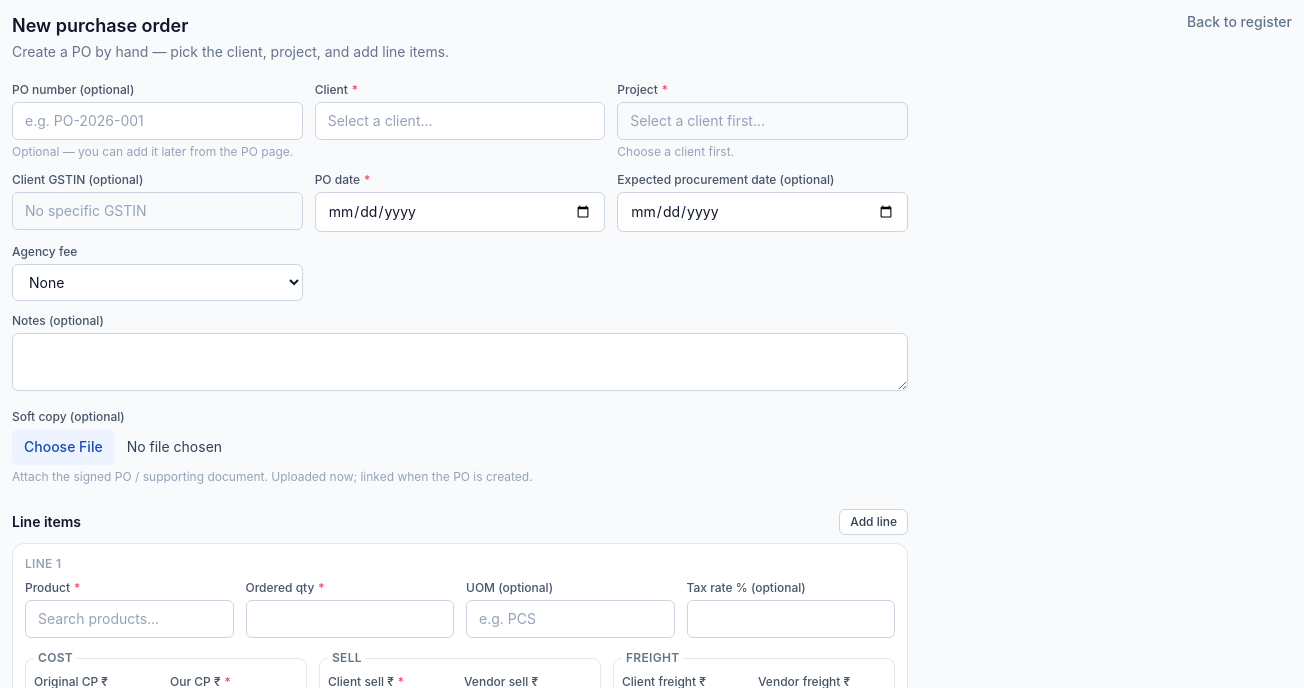
Test: PO create form — load this project's products (template pre-fill) › appends a pre-filled line per tagged product with qty LEFT BLANK (non-admin)
Expected: the field labelled "PO number" is shown, [12,102,303,140]
Focus the dropdown labelled "Client *". click: point(460, 121)
box: [315,102,605,140]
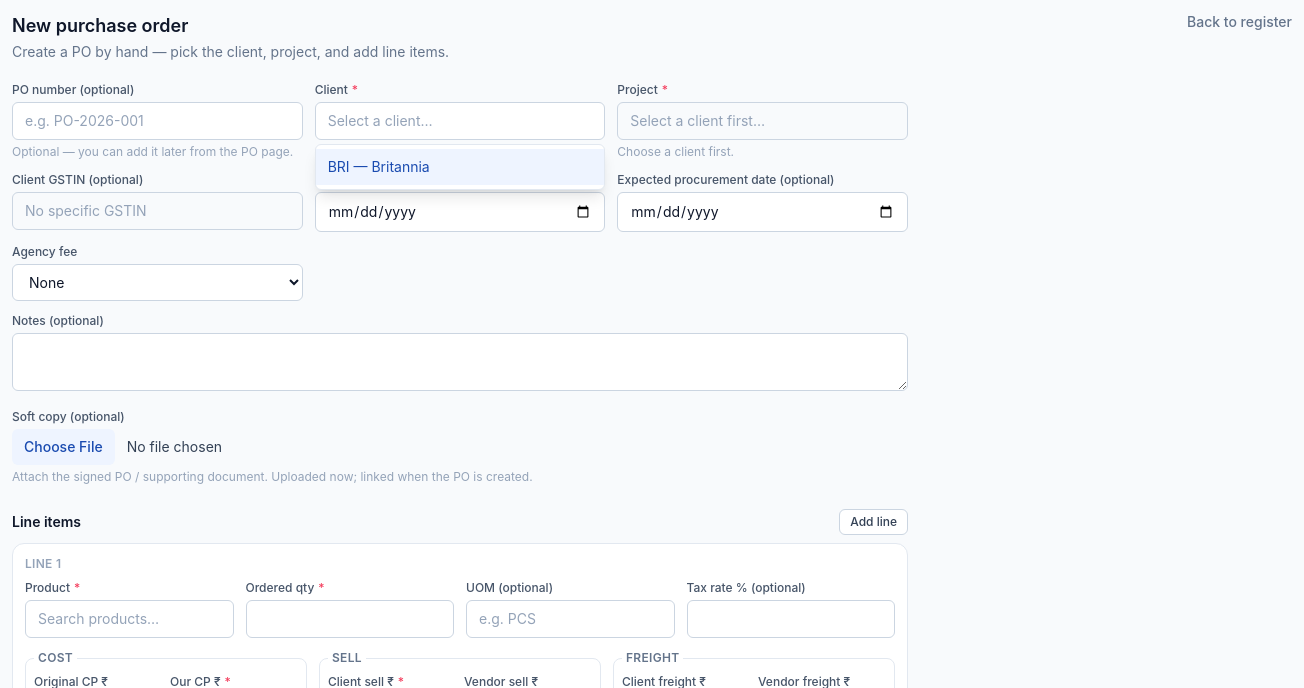
Press the mouse on the option "BRI — Britannia" at point(379, 166), box [316,149,604,185]
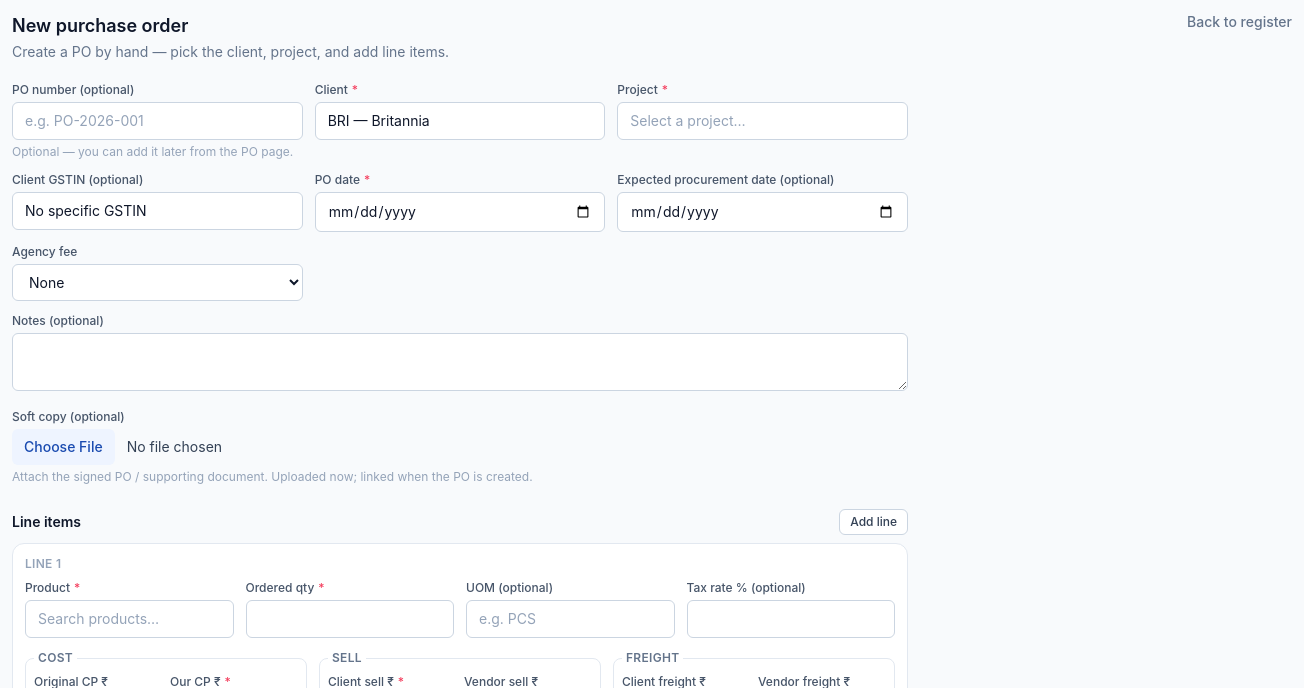
Now the dropdown labelled "Project *" is enabled
Focus the dropdown labelled "Project *". click: point(763, 121)
box: [617,102,908,140]
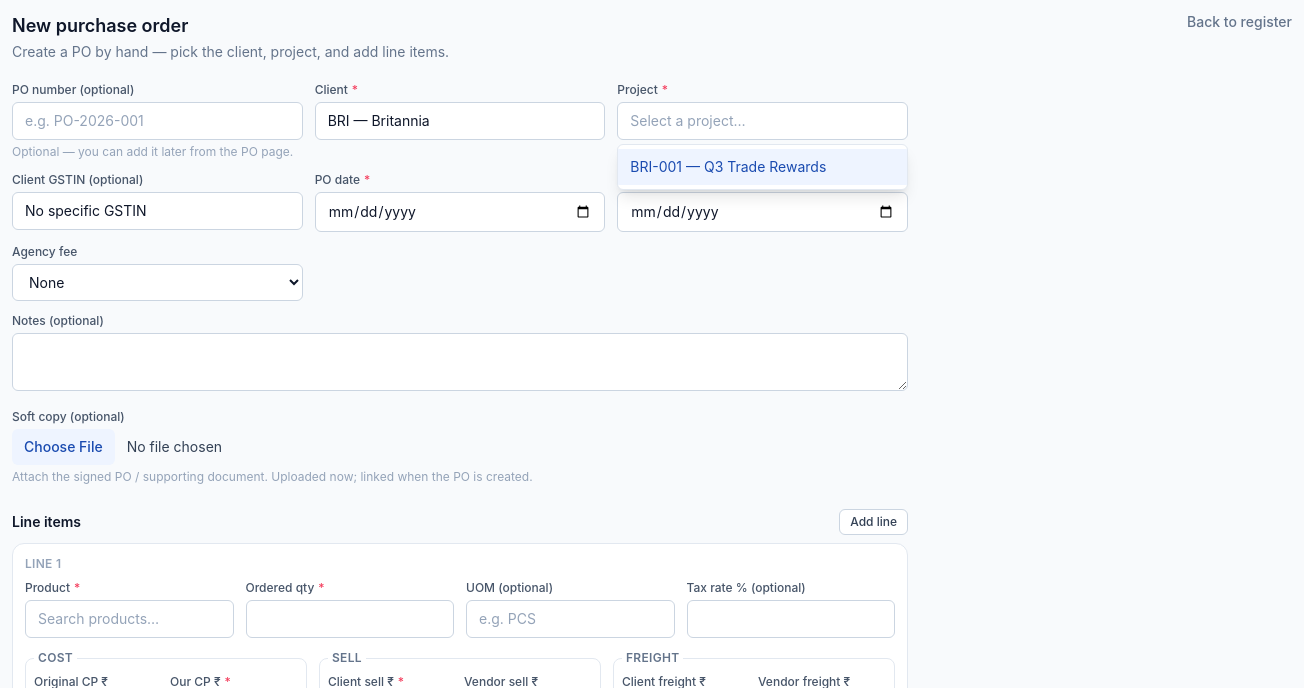
Press the mouse on the option "BRI-001 — Q3 Trade Rewards" at point(763, 167), box [618,149,907,185]
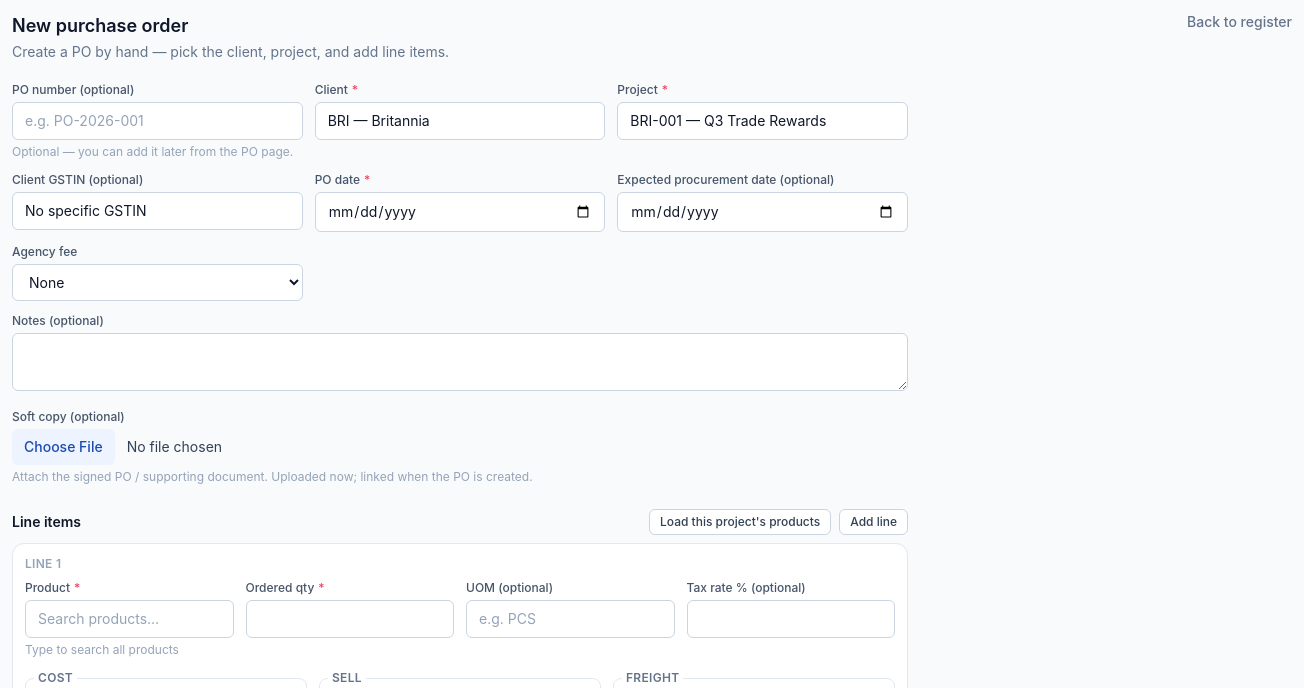
Click the button "Load this project's products". click: point(740, 522)
box: [649,509,831,535]
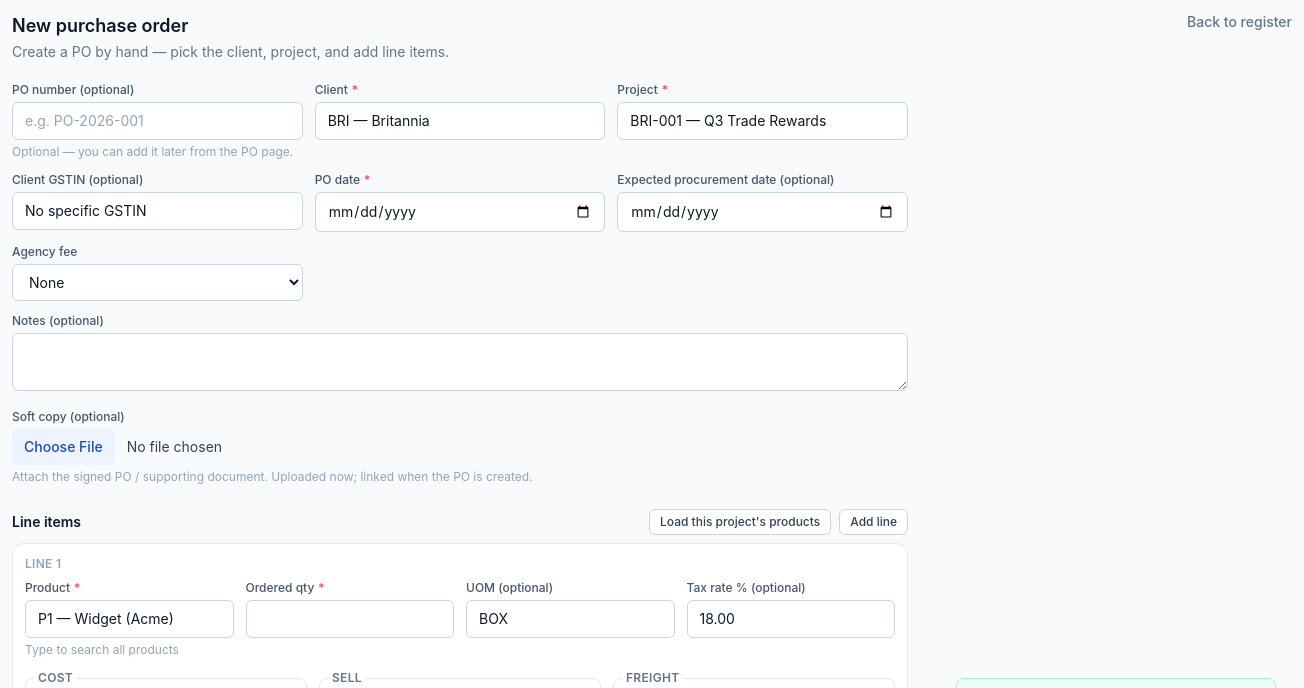
Expected: the field labelled "Ordered qty *" is empty, [246,600,454,638]
Now the field labelled "Tax rate % (optional)" holds "18.00", box [686,600,895,638]
